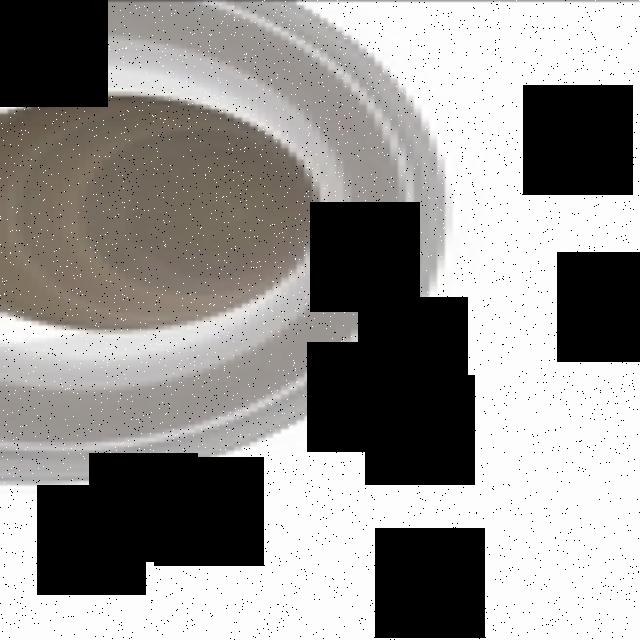Saturn: (0, 1, 461, 489)
